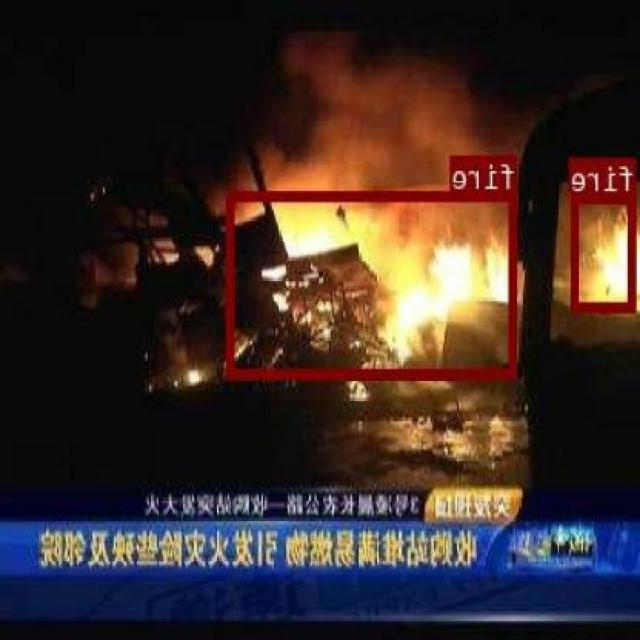Fire: (227, 188, 518, 376), (573, 192, 638, 311)
